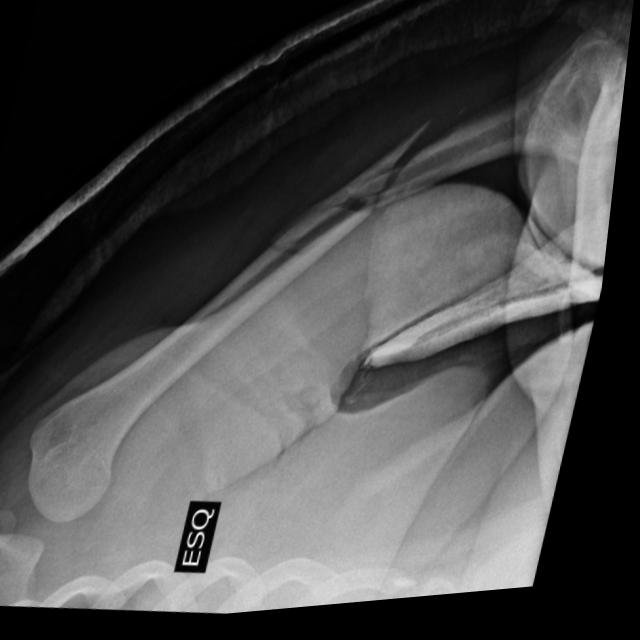fracture: (352, 118, 434, 228), (522, 232, 558, 267), (273, 247, 294, 261), (335, 207, 349, 219)
